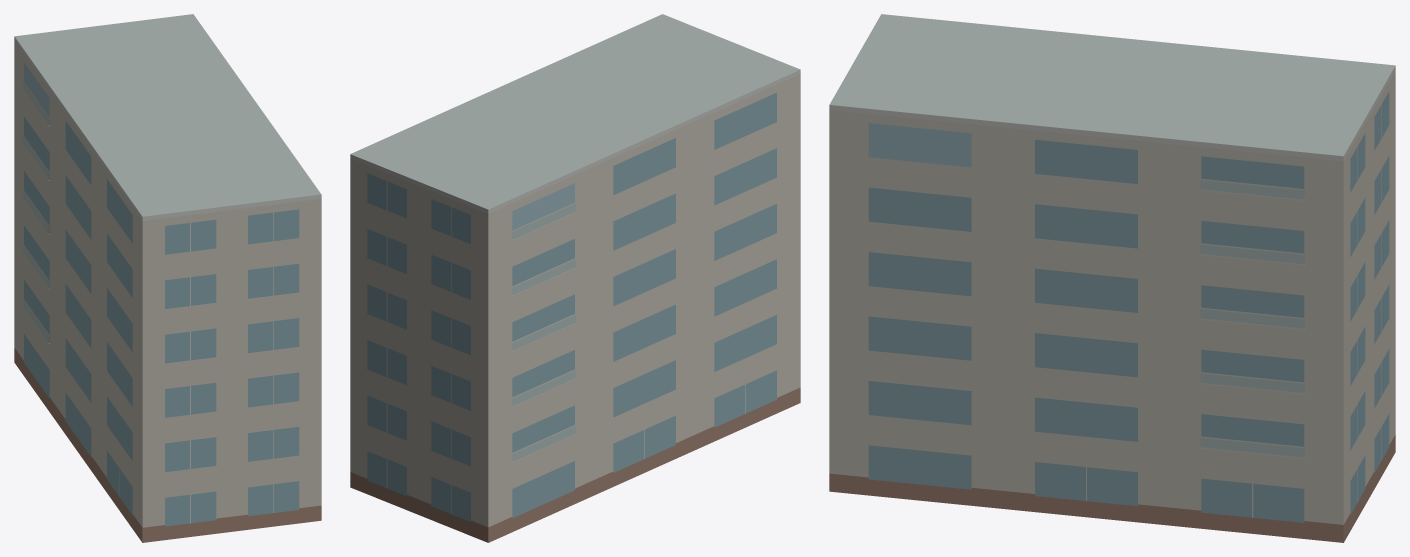
The model's file is survey-upis-32931914.glb.
3 renders of one model, left to right at view 1: azimuth 30°, elevation 25°; view 2: azimuth 150°, elevation 25°; view 3: azimuth 270°, elevation 25°, orthographic. The views are drawn at different scales.
Visible parts, largest first — view 1: survey-upis-32931914.tmp; view 2: survey-upis-32931914.tmp; view 3: survey-upis-32931914.tmp.
Part boxes in pixels (x1,y1,x2,y2): survey-upis-32931914.tmp: (14, 14, 321, 542); survey-upis-32931914.tmp: (350, 14, 800, 542); survey-upis-32931914.tmp: (829, 14, 1395, 542).
Size of the model in its own units: 14.76 by 18.7 by 24.83.
